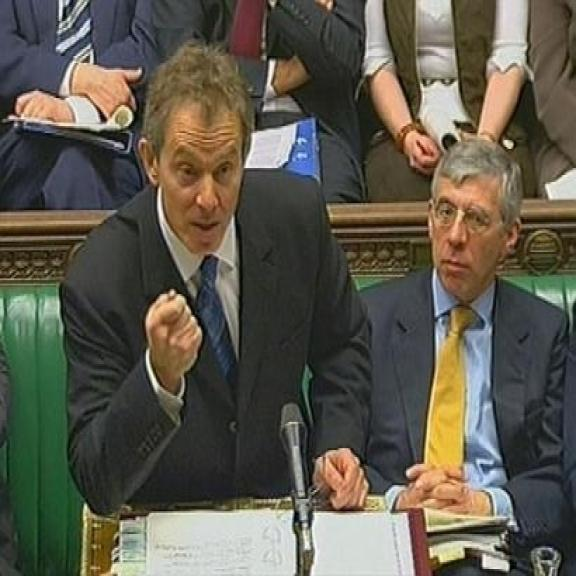face: (136, 111, 251, 252), (423, 173, 529, 302)
